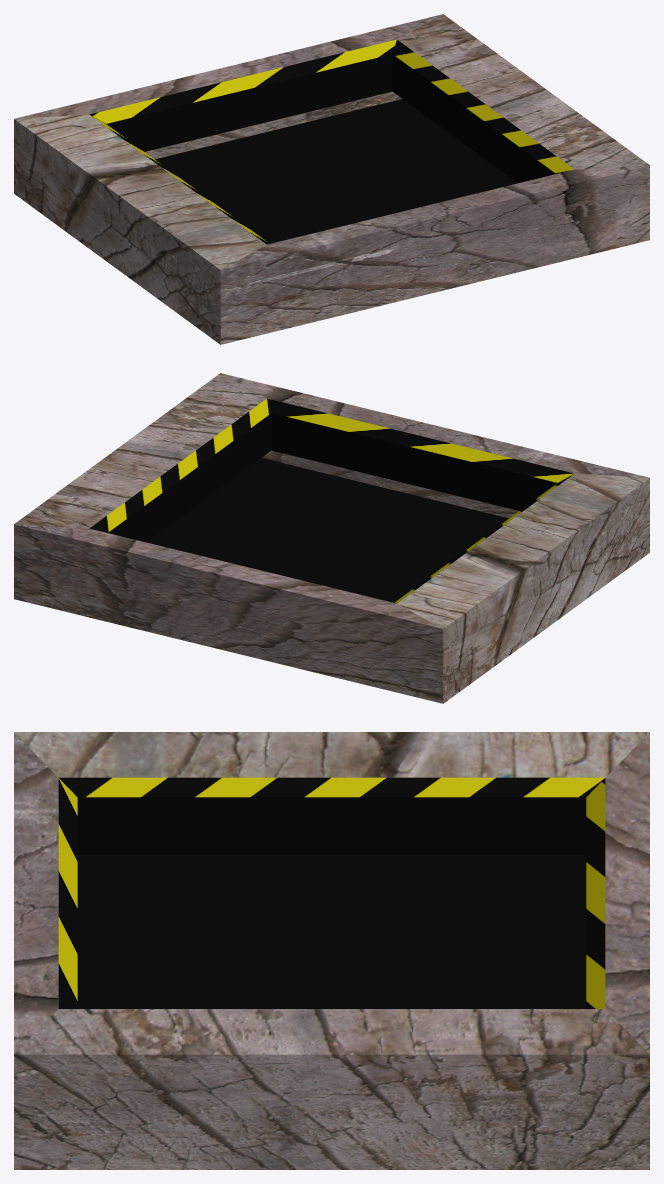
File: game 3 stage.fbx
The picture shows the model from 3 angles, top to bottom: view 1: azimuth 30°, elevation 25°; view 2: azimuth 150°, elevation 25°; view 3: azimuth 270°, elevation 25°; orthographic projection. The views are drawn at different scales.
Parts seen in each view (by area): view 1: Plane; view 2: Plane; view 3: Plane.
Boxes of the visible parts, x1,y1,x2,y2 form: Plane: (14,14,649,344); Plane: (14,373,649,703); Plane: (14,732,649,1169).
Bounding box in the file's own units: 1200 × 200 × 1000.
